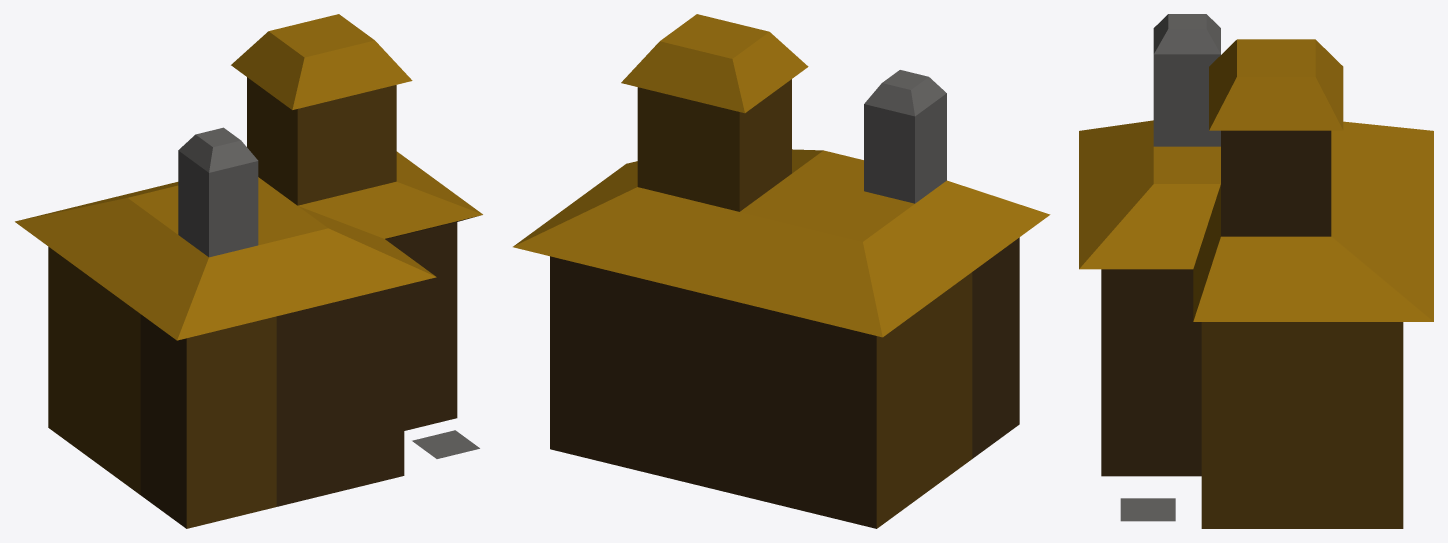
The model's file is house2.glb.
The picture shows the model from 3 angles, left to right: view 1: azimuth 30°, elevation 25°; view 2: azimuth 150°, elevation 25°; view 3: azimuth 270°, elevation 25°; orthographic projection. The views are drawn at different scales.
Parts seen in each view (by area): view 1: Cube; view 2: Cube; view 3: Cube.
Part boxes in pixels (x1,y1,x2,y2): Cube: (15,14,482,528); Cube: (513,14,1050,528); Cube: (1079,14,1433,528).
Bounding box in the file's own units: 19.16 × 19.49 × 15.03.
